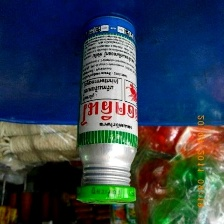insecticide: (71, 10, 141, 209)
